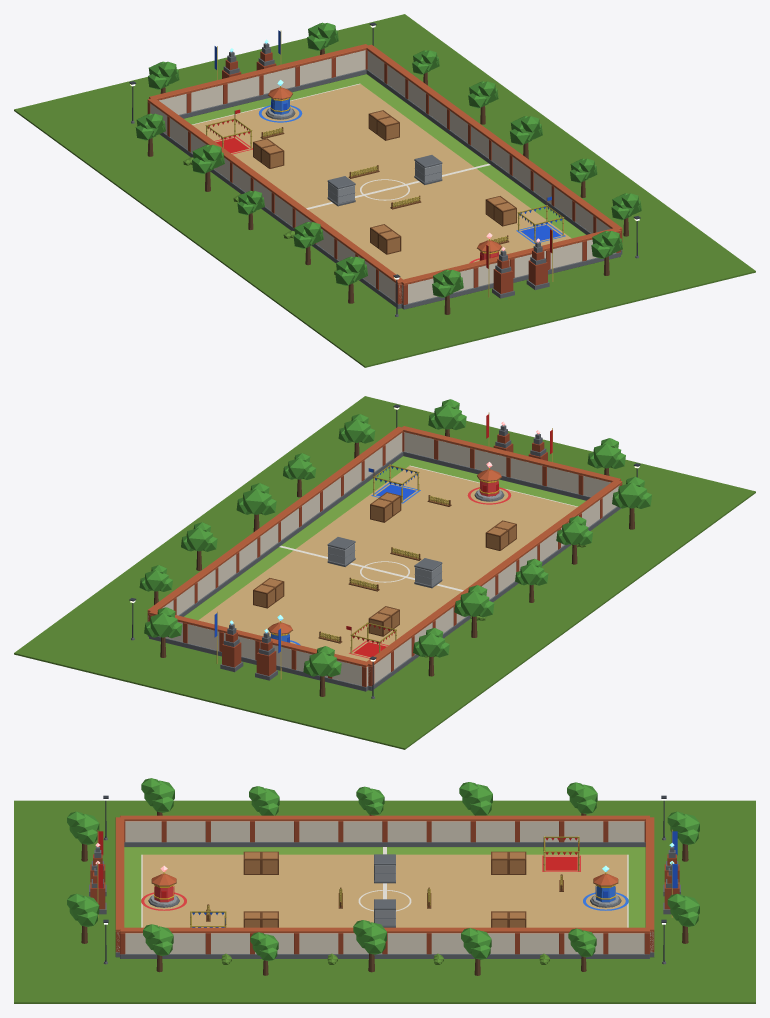
File: arena_modular.glb
3 renders of one model, top to bottom at view 1: azimuth 30°, elevation 25°; view 2: azimuth 150°, elevation 25°; view 3: azimuth 270°, elevation 25°, orthographic. The views are drawn at different scales.
Visible parts, largest first — view 1: Arena_GrassDark, Arena_CourtDirt, Arena_Plaster, Arena_Leaves, Arena_Terracotta, Arena_StoneDark, Arena_Grass, Arena_Brick, Arena_Wood, Arena_WoodDark, Arena_Bark, Arena_Stone (+5 smaller); view 2: Arena_GrassDark, Arena_CourtDirt, Arena_Plaster, Arena_Leaves, Arena_Terracotta, Arena_StoneDark, Arena_Grass, Arena_Brick, Arena_Wood, Arena_WoodDark, Arena_Bark, Arena_Stone (+5 smaller); view 3: Arena_GrassDark, Arena_CourtDirt, Arena_Plaster, Arena_Leaves, Arena_Terracotta, Arena_StoneDark, Arena_Grass, Arena_Brick, Arena_Wood, Arena_WoodDark, Arena_Bark, Arena_Stone (+8 smaller).
Part boxes in pixels (x1,y1,x2,y2): Arena_GrassDark: (14, 14, 755, 367); Arena_CourtDirt: (192, 84, 571, 279); Arena_Plaster: (150, 50, 616, 303); Arena_Leaves: (135, 22, 641, 297); Arena_Terracotta: (147, 44, 622, 285); Arena_StoneDark: (131, 43, 638, 316); Arena_Grass: (184, 74, 585, 238); Arena_Brick: (147, 50, 622, 304); Arena_Wood: (253, 111, 515, 253); Arena_WoodDark: (234, 93, 547, 254); Arena_Bark: (147, 48, 628, 314); Arena_Stone: (267, 107, 441, 203); Arena_GrassDark: (14, 396, 755, 749); Arena_CourtDirt: (198, 466, 577, 661); Arena_Plaster: (148, 432, 619, 686); Arena_Leaves: (139, 399, 651, 676); Arena_Terracotta: (147, 426, 622, 667); Arena_StoneDark: (131, 425, 621, 698); Arena_Grass: (184, 456, 585, 620); Arena_Brick: (147, 432, 622, 686); Arena_Wood: (254, 493, 516, 635); Arena_WoodDark: (253, 469, 516, 643); Arena_Bark: (154, 429, 634, 696); Arena_Stone: (328, 489, 502, 585); Arena_GrassDark: (14, 800, 755, 1003); Arena_CourtDirt: (142, 854, 627, 927); Arena_Plaster: (117, 821, 653, 953); Arena_Leaves: (67, 778, 699, 960); Arena_Terracotta: (115, 815, 654, 933); Arena_StoneDark: (89, 837, 680, 964); Arena_Grass: (124, 847, 645, 927); Arena_Brick: (90, 821, 679, 954); Arena_Wood: (245, 852, 524, 927); Arena_WoodDark: (151, 843, 618, 927); Arena_Bark: (81, 811, 688, 975); Arena_Stone: (150, 865, 619, 925).
Bounding box in the file's own units: 54 × 7.12 × 84.
